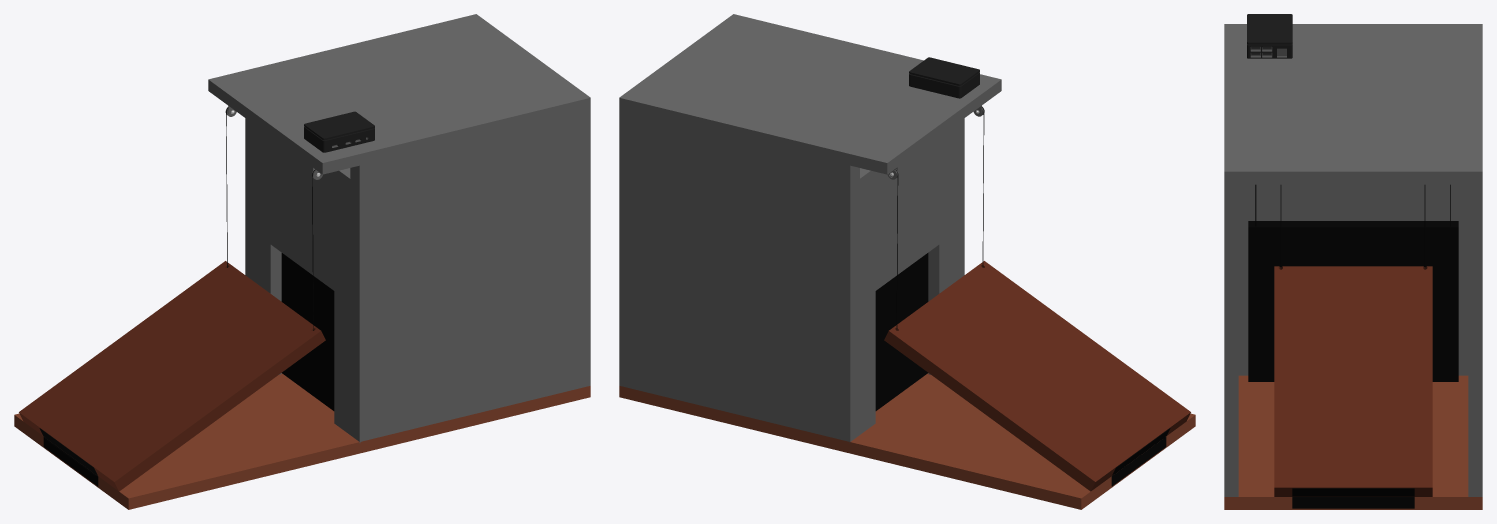
Rendered from coop.glb.
3 renders of one model, left to right at view 1: azimuth 30°, elevation 25°; view 2: azimuth 150°, elevation 25°; view 3: azimuth 270°, elevation 25°, orthographic. The views are drawn at different scales.
Visible parts, largest first — view 1: coop, Cube, Cube.002, pi, Cube.004; view 2: coop, Cube, Cube.002, pi, Cube.004; view 3: coop, Cube.001, Cube.002, Cube.005, pi, Cylinder.001.
Boxes of the visible parts, bbox=[...] form: coop: bbox=[14, 14, 590, 509]; Cube: bbox=[19, 261, 325, 491]; Cube.002: bbox=[281, 253, 334, 410]; pi: bbox=[304, 111, 374, 152]; Cube.004: bbox=[39, 428, 98, 486]; coop: bbox=[619, 14, 1195, 509]; Cube: bbox=[884, 261, 1190, 491]; Cube.002: bbox=[875, 253, 928, 410]; pi: bbox=[909, 57, 979, 98]; Cube.004: bbox=[1111, 428, 1170, 486]; coop: bbox=[1224, 24, 1482, 509]; Cube.001: bbox=[1274, 266, 1432, 496]; Cube.002: bbox=[1248, 221, 1458, 381]; Cube.005: bbox=[1292, 488, 1414, 508]; pi: bbox=[1247, 14, 1292, 58]; Cylinder.001: bbox=[1255, 184, 1450, 269].
Bounding box in the file's own units: 8.58 × 5.45 × 3.6.
